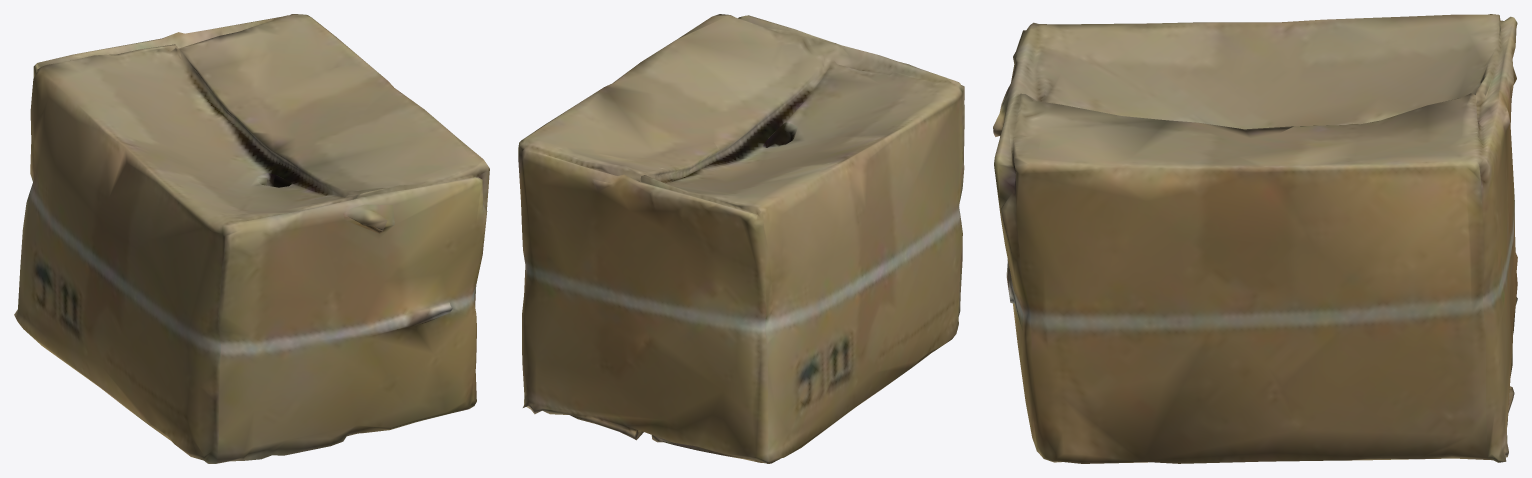
Rendered from carton-low.glb.
The picture shows the model from 3 angles, left to right: view 1: azimuth 30°, elevation 25°; view 2: azimuth 150°, elevation 25°; view 3: azimuth 270°, elevation 25°; orthographic projection. The views are drawn at different scales.
Parts seen in each view (by area): view 1: cardboard_box_01; view 2: cardboard_box_01; view 3: cardboard_box_01.
Boxes of the visible parts, bbox=[...] form: cardboard_box_01: bbox=[14, 14, 489, 463]; cardboard_box_01: bbox=[518, 14, 964, 463]; cardboard_box_01: bbox=[993, 14, 1517, 463].
Bounding box in the file's own units: 0.3868 × 0.3418 × 0.5159.
Materials: 1 (1 with a texture image).
